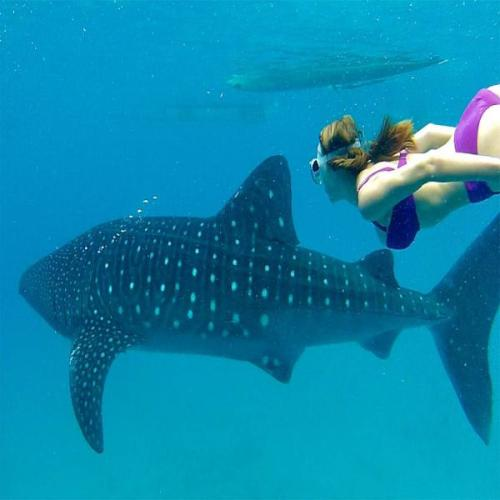shark-endangered: (21, 155, 500, 444)
